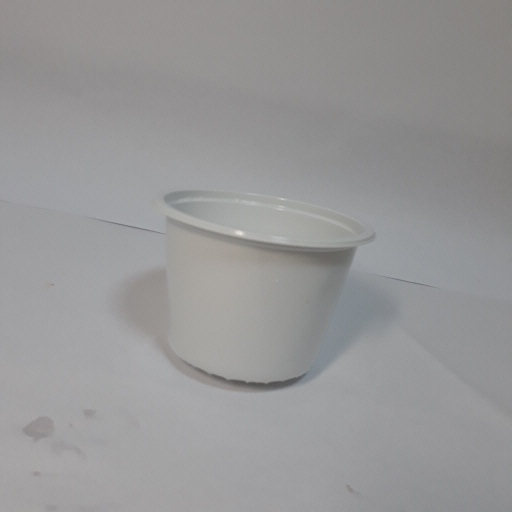Plastic_5: (148, 185, 377, 388)
